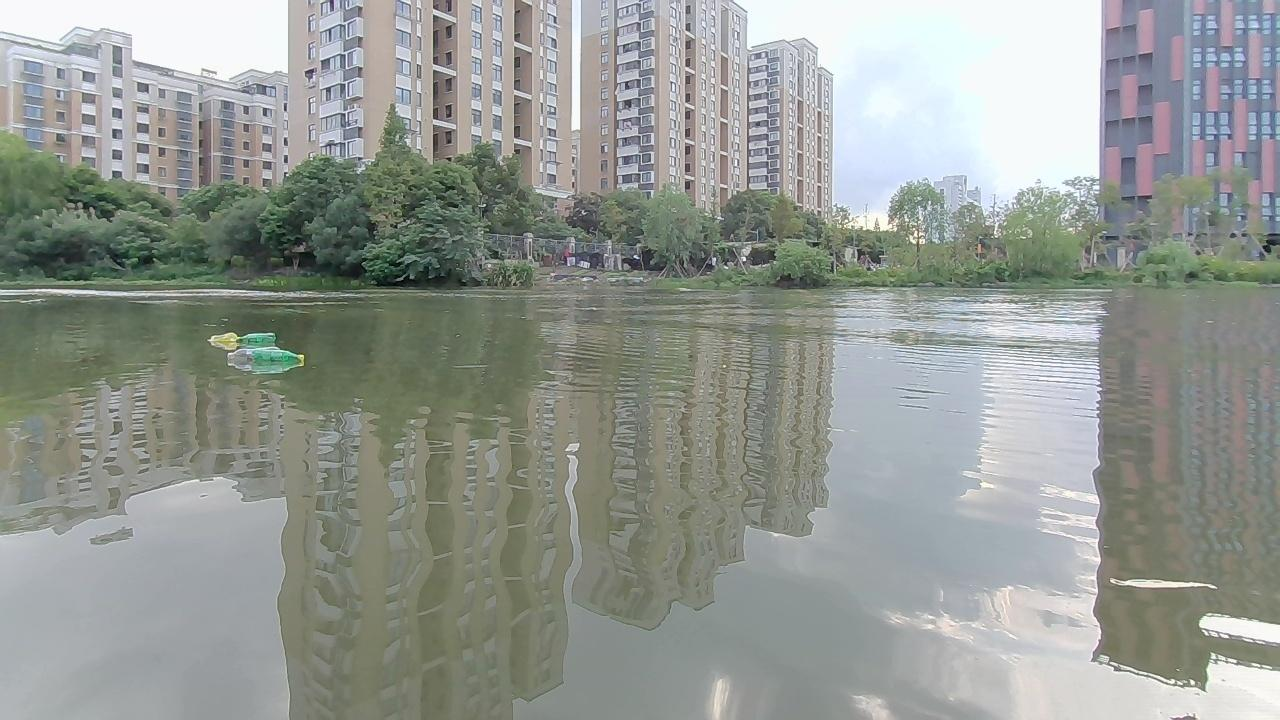bottle: (247, 343, 306, 371), (225, 349, 260, 367), (201, 328, 239, 344), (241, 332, 276, 342)
